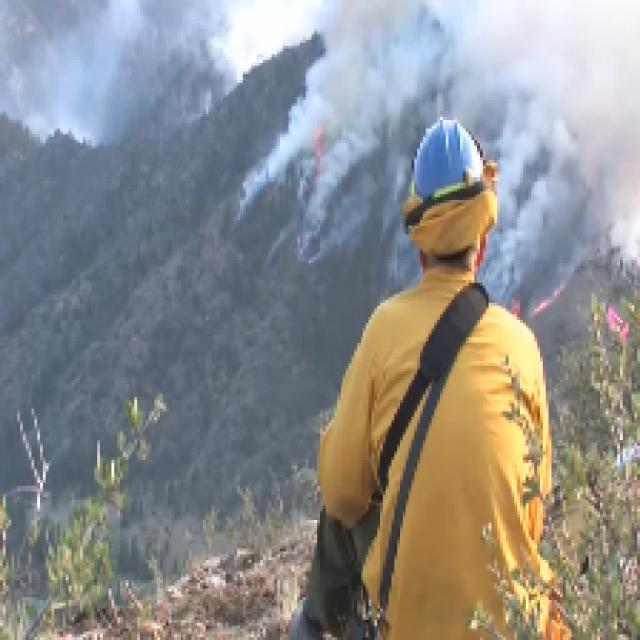Smoke: (178, 1, 640, 281), (0, 0, 437, 146)
